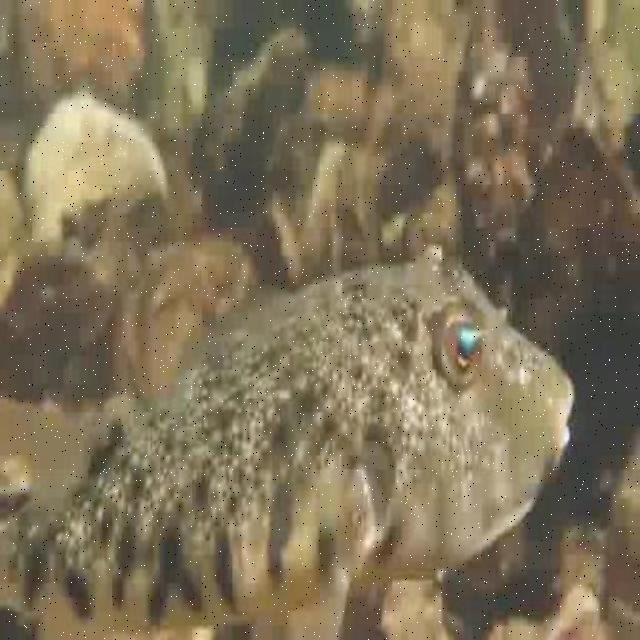Oyster-Closed: (124, 233, 264, 411), (24, 95, 166, 253), (201, 28, 312, 215), (458, 34, 532, 308), (3, 249, 118, 357), (543, 591, 607, 640)
Oyster-Open: (511, 115, 640, 392)
